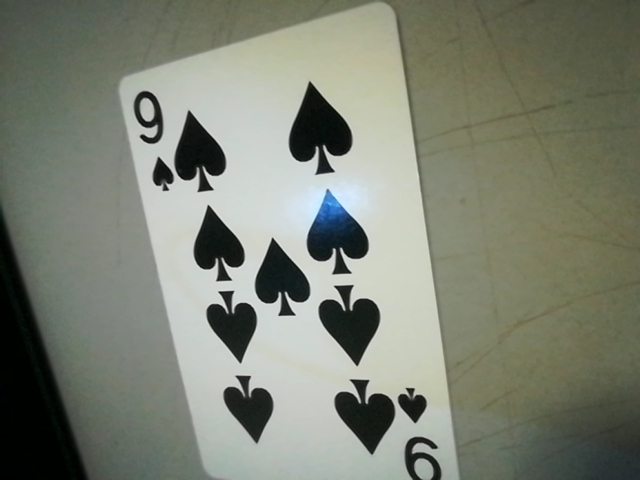ht 9: (122, 83, 180, 197), (390, 377, 452, 480)
